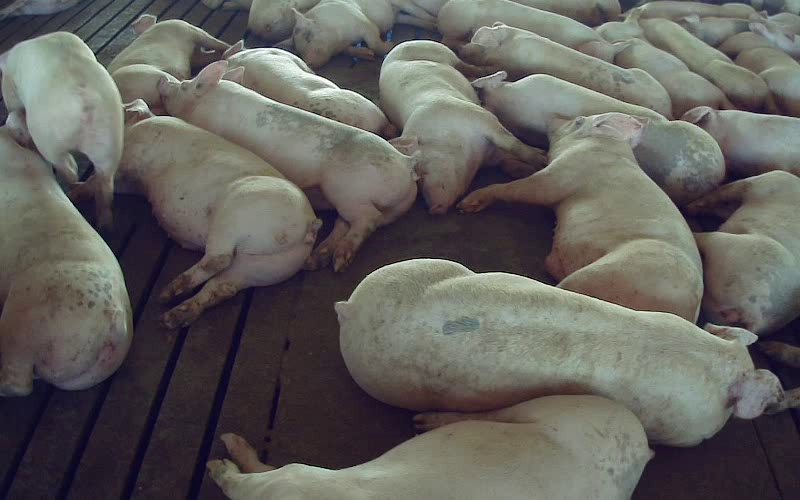pig: (336, 259, 784, 445), (459, 113, 702, 321), (116, 100, 320, 326), (208, 395, 651, 499), (0, 111, 131, 395), (473, 72, 724, 204), (379, 40, 544, 212), (460, 22, 671, 117), (687, 171, 799, 334), (223, 41, 395, 137), (595, 9, 734, 118), (639, 18, 768, 112), (108, 14, 228, 113), (275, 0, 435, 68), (438, 0, 615, 61), (682, 106, 799, 177), (718, 32, 799, 116)
